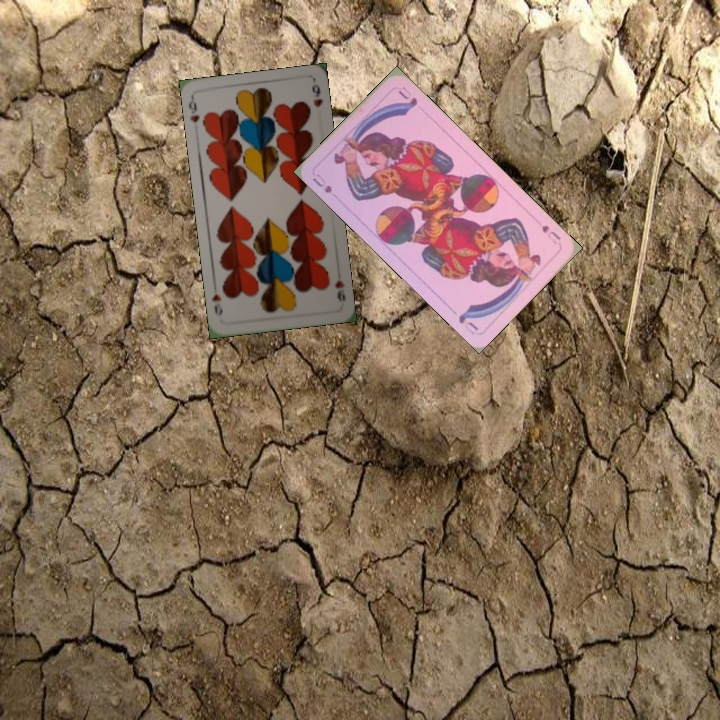H9: (185, 94, 202, 126), (331, 277, 348, 304)
SU: (308, 170, 335, 196), (537, 221, 563, 247)
